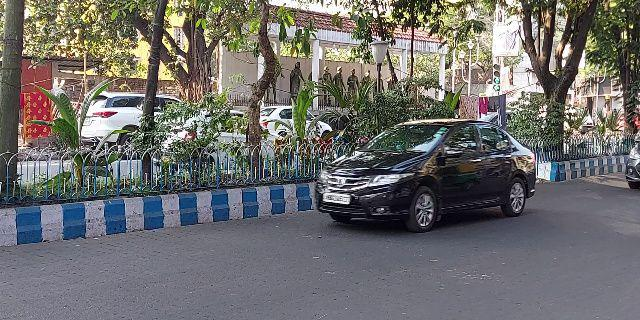Car: (306, 117, 537, 227)
